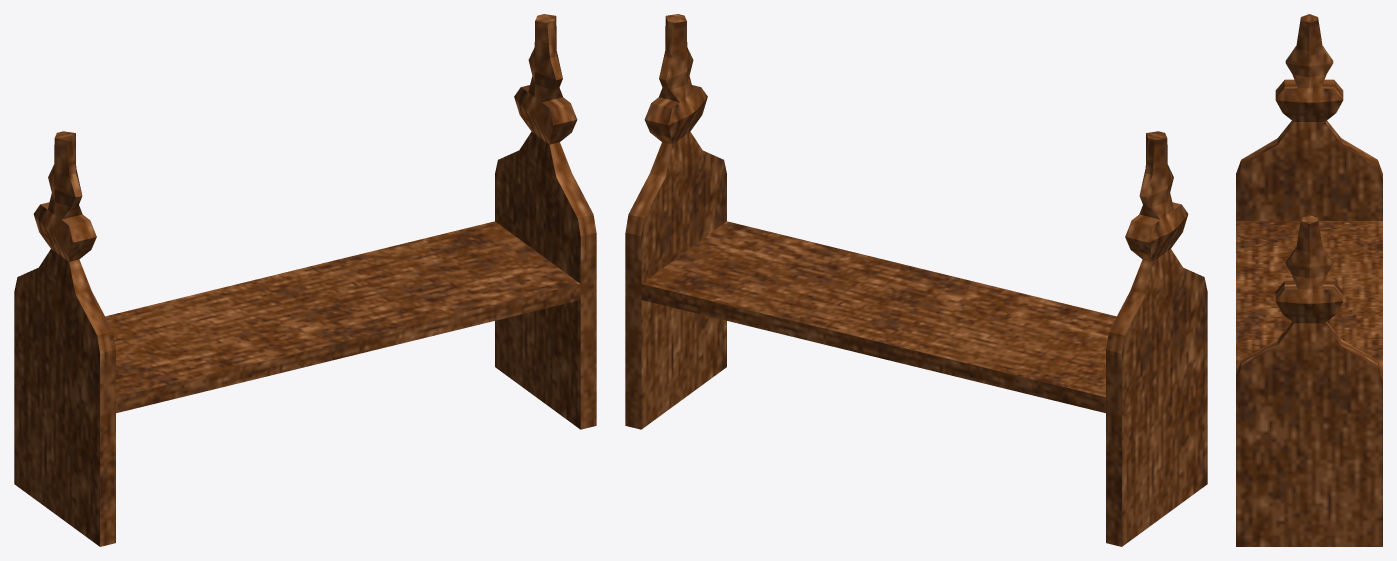
File: SM_Dungeon_Bench_Pew.fbx
3 views of the same model, side by side, from view 1: azimuth 30°, elevation 25°; view 2: azimuth 150°, elevation 25°; view 3: azimuth 270°, elevation 25° (orthographic). The views are drawn at different scales.
Parts seen in each view (by area): view 1: SM_Dungeon_Pew; view 2: SM_Dungeon_Pew; view 3: SM_Dungeon_Pew.
Boxes of the visible parts, x1,y1,x2,y2 form: SM_Dungeon_Pew: (14, 14, 596, 546); SM_Dungeon_Pew: (625, 14, 1207, 546); SM_Dungeon_Pew: (1236, 14, 1382, 546).
Bounding box in the file's own units: 179 × 125 × 51.41.
